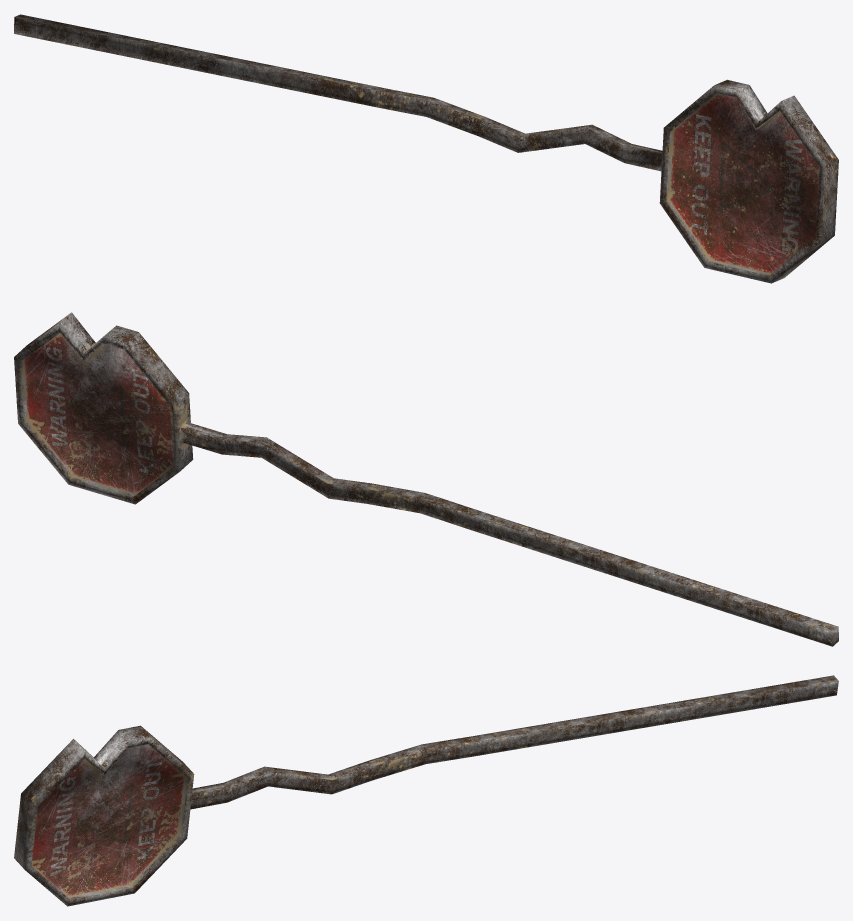
The model's file is Anim_idle_senyal_objetos.0018.obj.
The picture shows the model from 3 angles, top to bottom: view 1: azimuth 30°, elevation 25°; view 2: azimuth 210°, elevation 25°; view 3: azimuth 270°, elevation 25°; orthographic projection. The views are drawn at different scales.
Size of the model in its own units: 6.15 by 2.55 by 11.2.
